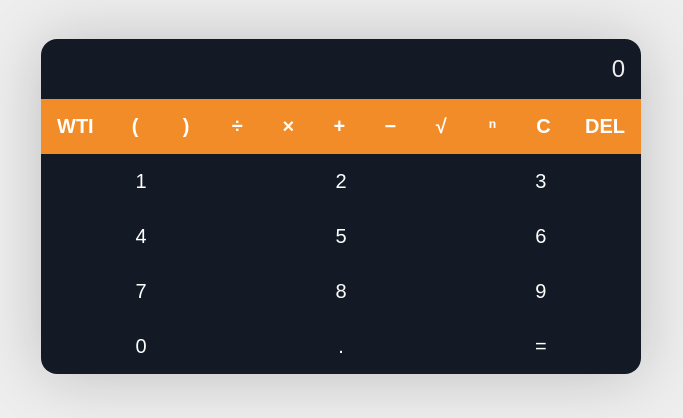
Test: Backspace 45 to display 4
The width and height of the screenshot is (683, 418).
What coordinates should you click on to do the following:
click the button "4"
I would click on:
 (141, 236)
Its box is [41, 208, 241, 264].
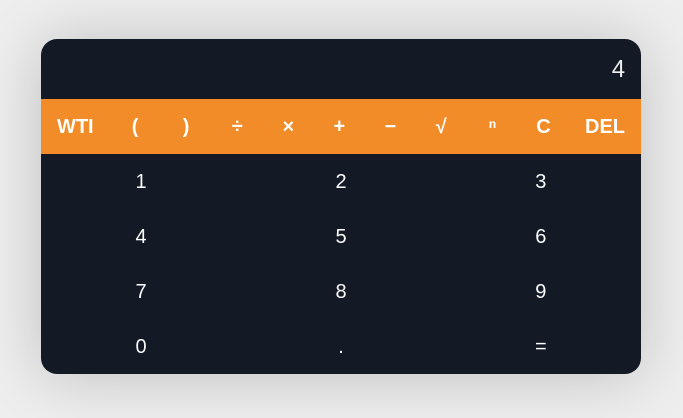
What coordinates should you click on to do the following:
click the button "5"
I would click on:
 (341, 236)
Its box is [241, 208, 441, 264].
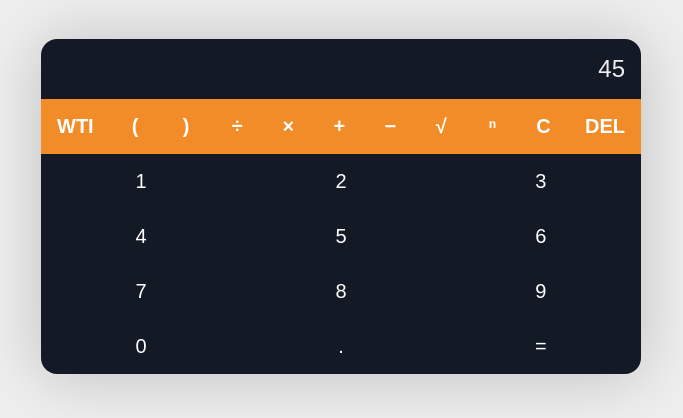
What coordinates should you click on to do the following:
click the button with class "del"
I would click on:
 (605, 126)
Its box is [569, 98, 641, 154].
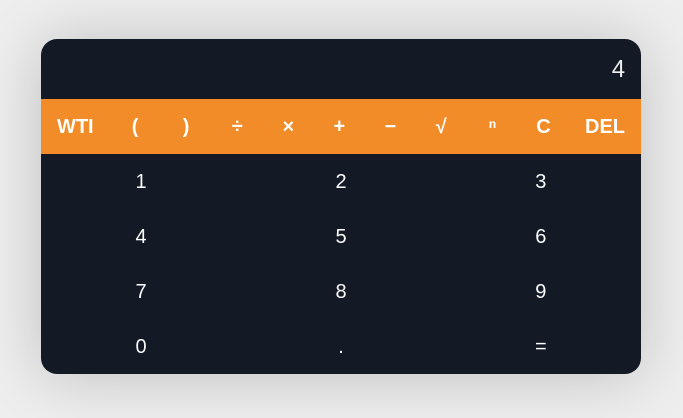
Expected: the text with class "display" reads "4", [612, 54, 625, 82]
